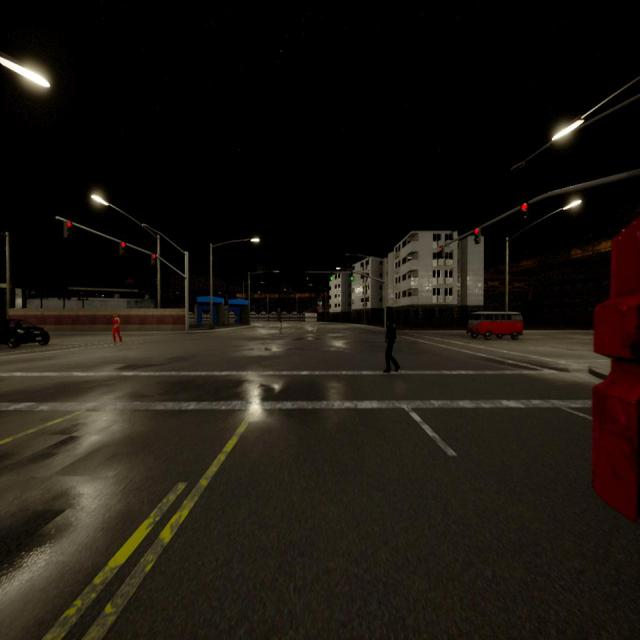Pedestrian: (383, 308, 400, 373), (112, 314, 122, 343), (280, 321, 284, 336)
Vehicle: (593, 218, 639, 518), (467, 312, 523, 339), (0, 319, 50, 347)
traffic_light: (64, 222, 71, 236), (522, 204, 527, 218), (475, 228, 479, 244), (120, 242, 125, 254), (440, 246, 444, 258), (152, 254, 156, 264), (330, 272, 332, 280), (351, 272, 353, 280), (306, 273, 308, 280)
